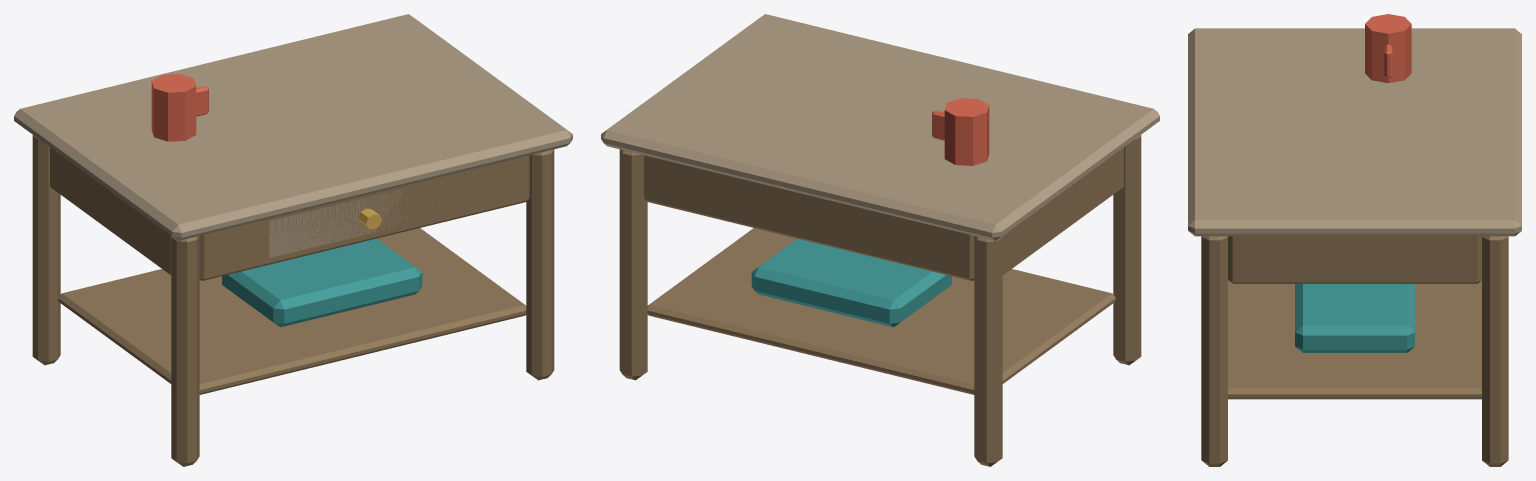
Rendered from side_table.glb.
3 renders of one model, left to right at view 1: azimuth 30°, elevation 25°; view 2: azimuth 150°, elevation 25°; view 3: azimuth 270°, elevation 25°, orthographic.
Parts seen in each view (by area): view 1: side_table_Body; view 2: side_table_Body; view 3: side_table_Body.
Part boxes in pixels (x1=…): side_table_Body: x1=14, y1=14, x2=572, y2=466; side_table_Body: x1=601, y1=14, x2=1159, y2=466; side_table_Body: x1=1188, y1=14, x2=1521, y2=466.
Size of the model in its own units: 0.7 by 0.5 by 0.5.
